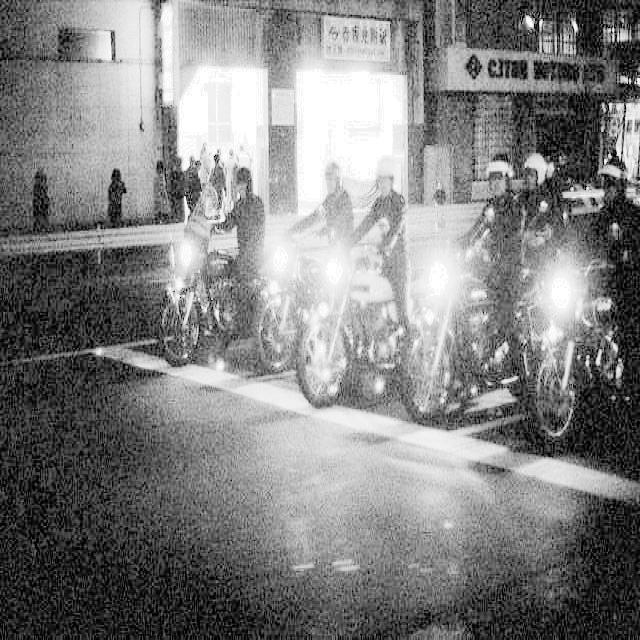Motorcycle: (392, 247, 518, 409), (530, 265, 637, 442), (304, 248, 414, 420), (250, 233, 324, 377)
Person: (351, 158, 420, 336), (585, 145, 640, 337), (300, 148, 361, 276), (479, 148, 516, 266), (520, 134, 556, 248)
